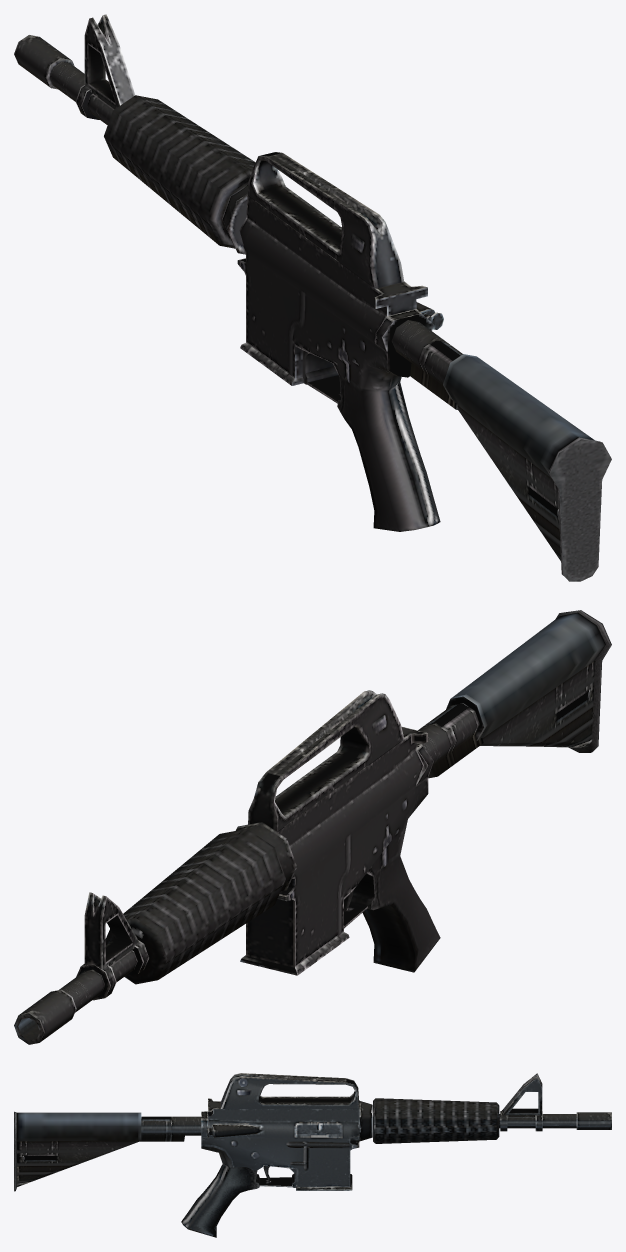
3 renders of one model, top to bottom at view 1: azimuth 30°, elevation 25°; view 2: azimuth 150°, elevation 25°; view 3: azimuth 270°, elevation 25°, orthographic. The views are drawn at different scales.
Visible parts, largest first — view 1: M733; view 2: M733; view 3: M733.
Boxes of the visible parts, x1,y1,x2,y2 form: M733: [14, 14, 611, 581]; M733: [14, 610, 611, 1044]; M733: [14, 1073, 611, 1237].
Bounding box in the file's own units: 0.0394 × 0.4638 × 0.1347.
